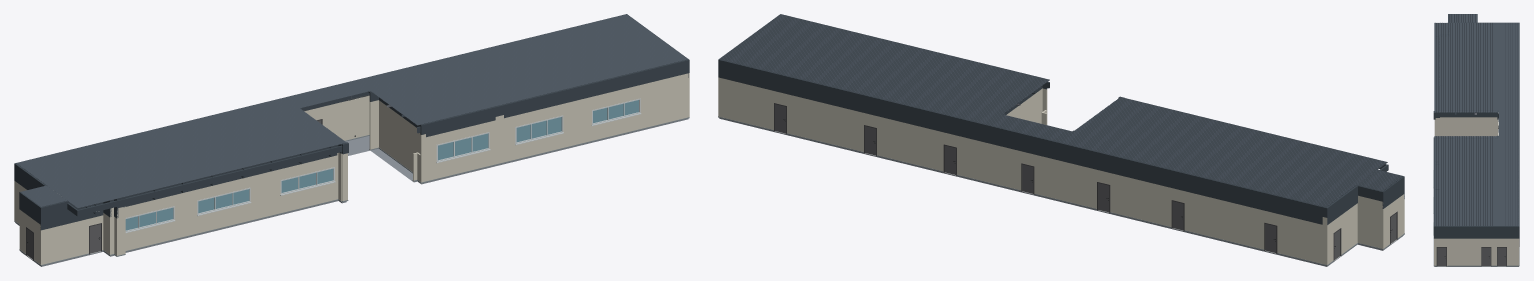
Rendered from space.glb.
3 renders of one model, left to right at view 1: azimuth 30°, elevation 25°; view 2: azimuth 150°, elevation 25°; view 3: azimuth 270°, elevation 25°, orthographic. The views are drawn at different scales.
Parts seen in each view (by area): view 1: Space_ceiling, Space_windows, Wall_35_Clean, Wall_18_Clean, Wall_34_Clean, Wall_27_Clean, Wall_31_Clean, Wall_23_Clean, Wall_19_Clean, Wall_38_Clean, Floor_Continuous_00, Space_fixtures (+5 smaller); view 2: Space_ceiling, Wall_38_Clean, Space_doors, Wall_15_Clean, Wall_0_Clean, Floor_Continuous_00, Space_fixtures, Wall_4_Clean, Wall_19_Clean; view 3: Space_ceiling, Wall_13_Clean, Wall_2_Clean, Space_doors, Space_fixtures, Floor_Continuous_00, Wall_22_Clean.
Boxes of the visible parts, <box> form: Space_ceiling: <box>14,14,689,230</box>; Space_windows: <box>125,98,641,233</box>; Wall_35_Clean: <box>125,174,262,250</box>; Wall_18_Clean: <box>577,73,688,144</box>; Wall_34_Clean: <box>262,155,337,217</box>; Wall_27_Clean: <box>504,100,577,162</box>; Wall_31_Clean: <box>426,120,495,181</box>; Wall_23_Clean: <box>40,215,103,264</box>; Wall_19_Clean: <box>379,100,420,171</box>; Wall_38_Clean: <box>304,95,369,140</box>; Floor_Continuous_00: <box>15,118,688,266</box>; Space_fixtures: <box>14,117,689,265</box>; Space_ceiling: <box>718,14,1404,224</box>; Wall_38_Clean: <box>718,77,1322,263</box>; Space_doors: <box>774,103,1397,260</box>; Wall_15_Clean: <box>1357,195,1383,248</box>; Wall_0_Clean: <box>1326,203,1357,264</box>; Floor_Continuous_00: <box>719,118,1403,266</box>; Space_fixtures: <box>718,116,1404,265</box>; Wall_4_Clean: <box>1382,194,1403,248</box>; Wall_19_Clean: <box>1006,88,1042,123</box>; Space_ceiling: <box>1433,14,1519,238</box>; Wall_13_Clean: <box>1434,238,1519,266</box>; Wall_2_Clean: <box>1440,117,1497,136</box>; Space_doors: <box>1436,239,1519,266</box>; Space_fixtures: <box>1433,239,1519,266</box>; Floor_Continuous_00: <box>1434,118,1518,266</box>; Wall_22_Clean: <box>1435,118,1439,136</box>.
Bounding box in the file's own units: 49.66 × 4.46 × 8.54.
